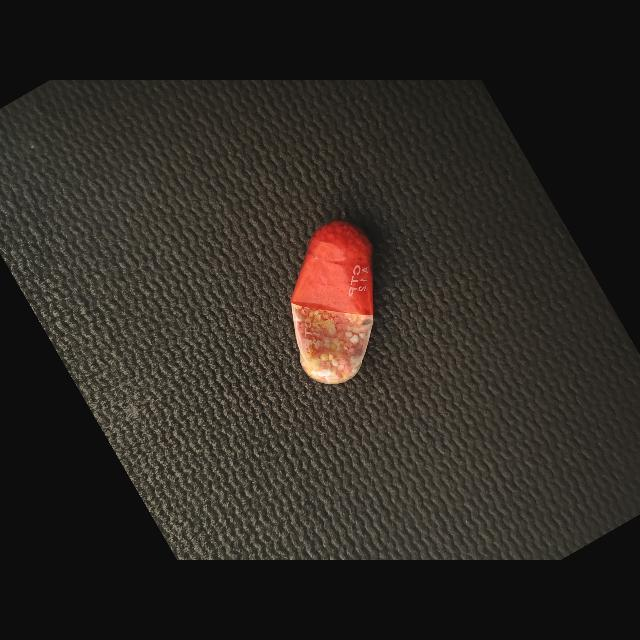Defective Capsule: (290, 221, 374, 384)
